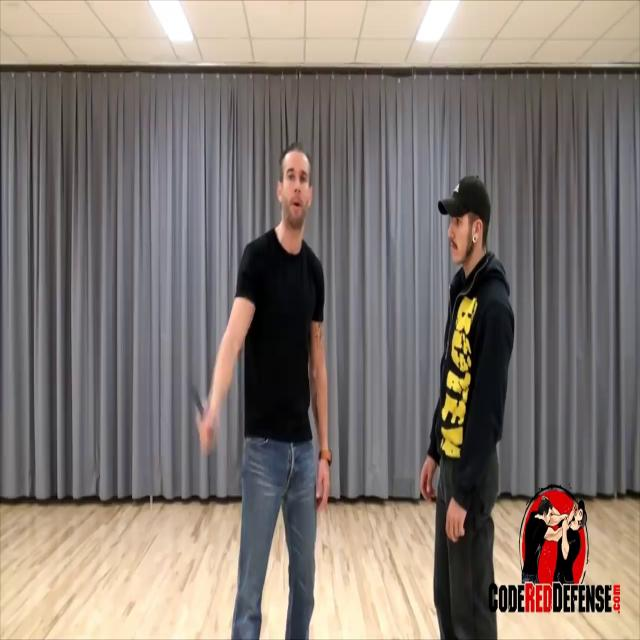Knife_Handle: (187, 380, 218, 455)
